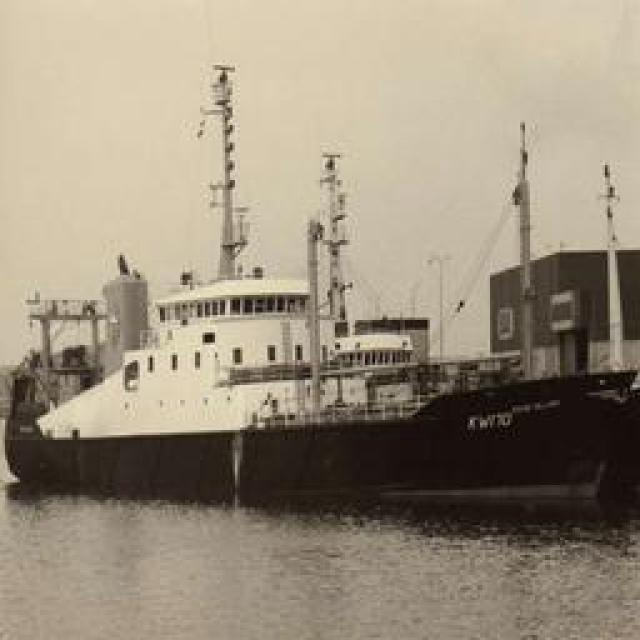Ship: (7, 105, 630, 505)
